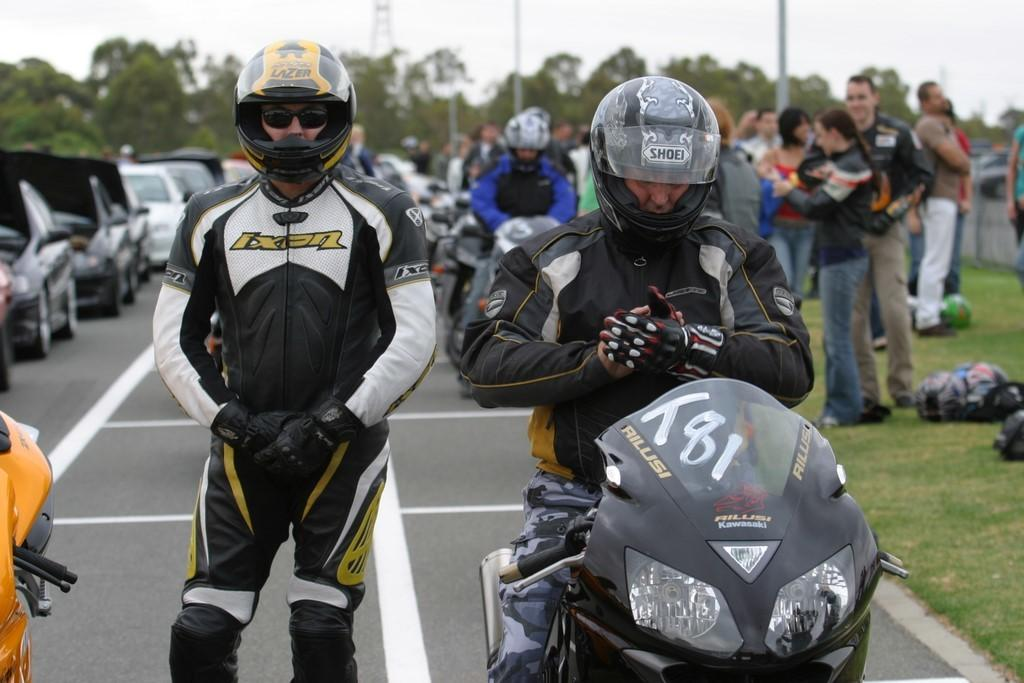helmet: (589, 75, 722, 251), (232, 39, 357, 183), (503, 112, 551, 173)
nohelmet: (814, 107, 858, 161), (844, 74, 881, 125), (777, 106, 812, 150), (916, 80, 950, 116)
